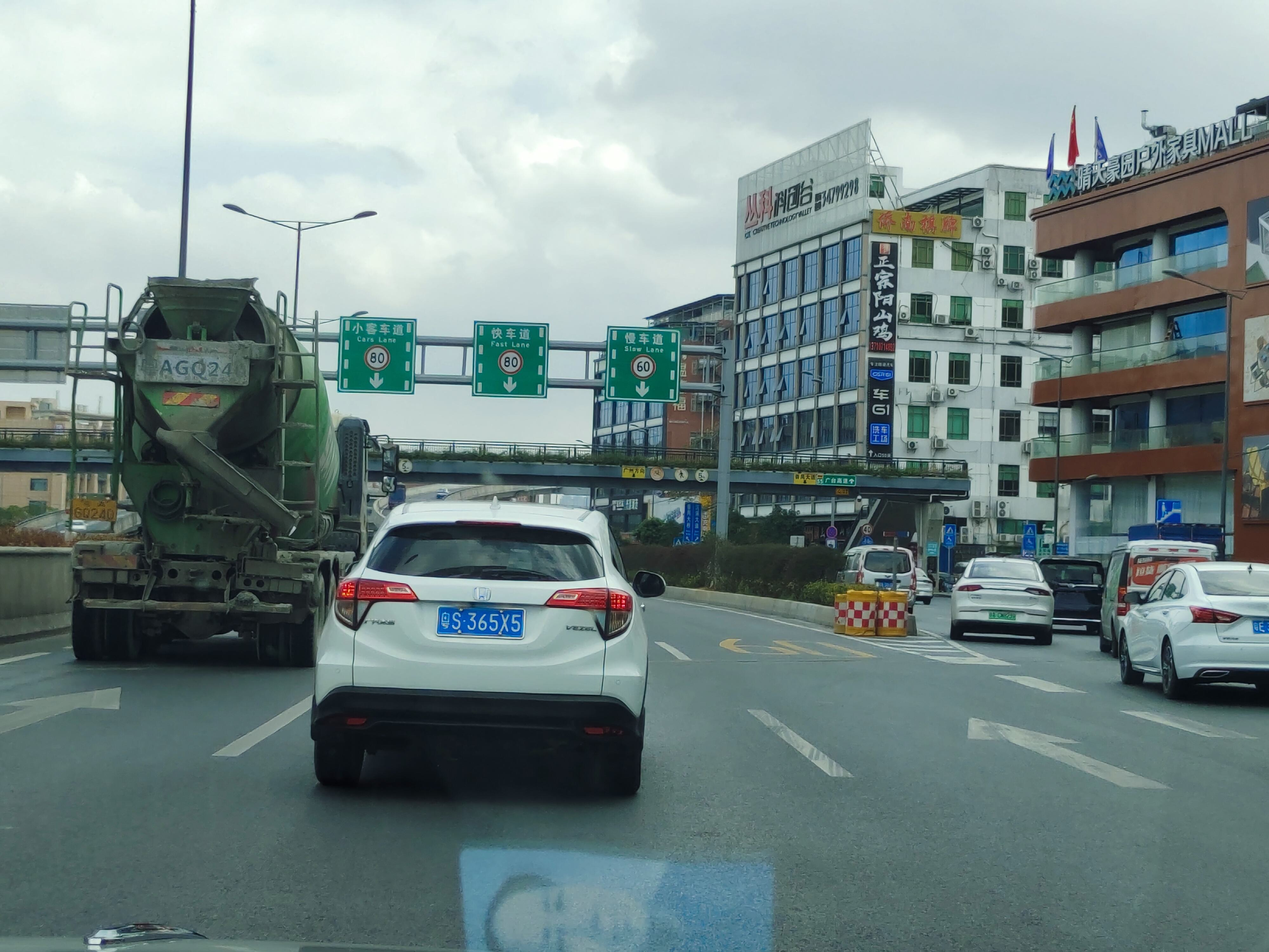car: (320, 495, 651, 797), (1114, 556, 1268, 697), (1095, 538, 1199, 678), (946, 549, 1050, 652), (843, 539, 922, 615)
truck: (52, 255, 337, 654)
